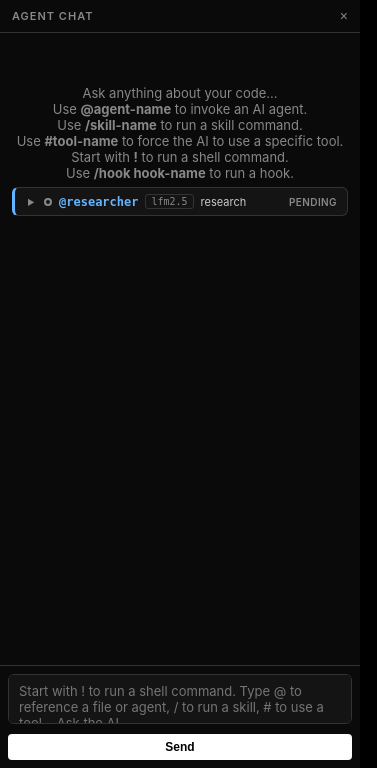
Test: ChatPanel — sub-agent trigger (@agent → spawn_subagent) › replaces the sub-agent window content with the cleaned result on subagent-done
Note: Expand the body.
Click the text "@researcher".
click(99, 202)  # box [59,194,138,208]
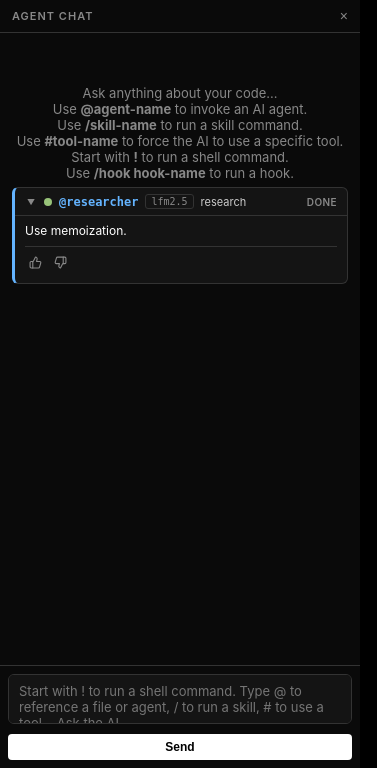
Result: the element with class "subagent-block-body" is shown at [15,215,347,283]
Result: the text "Use memoization." is shown at [25,223,127,238]
